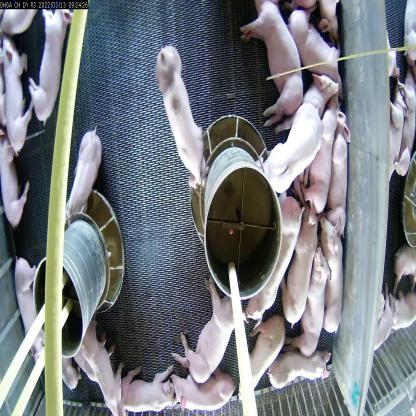Pig: (149, 47, 210, 216), (170, 277, 248, 380), (24, 0, 82, 125), (252, 190, 304, 326), (13, 265, 68, 392), (264, 98, 314, 210), (244, 3, 296, 109), (66, 119, 112, 228), (281, 202, 323, 312), (303, 101, 339, 228), (116, 352, 183, 415), (318, 217, 348, 340), (2, 40, 32, 148), (298, 252, 330, 353), (248, 304, 286, 385), (175, 363, 233, 416), (84, 323, 122, 402), (278, 340, 335, 392), (0, 127, 21, 240)
